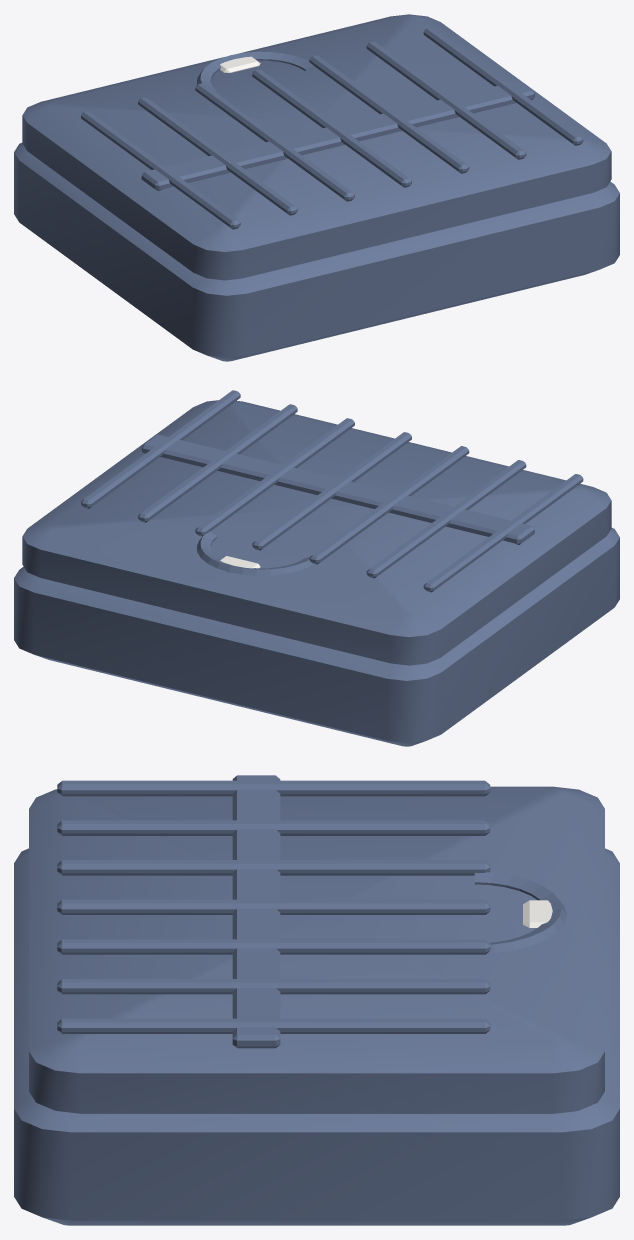
The model's file is folded-jumper.glb.
The picture shows the model from 3 angles, top to bottom: view 1: azimuth 30°, elevation 25°; view 2: azimuth 150°, elevation 25°; view 3: azimuth 270°, elevation 25°; orthographic projection. The views are drawn at different scales.
Parts seen in each view (by area): view 1: jumper-folded; view 2: jumper-folded; view 3: jumper-folded.
Boxes of the visible parts, <box> form: jumper-folded: <box>14,14,619,361</box>; jumper-folded: <box>14,390,619,746</box>; jumper-folded: <box>14,775,619,1225</box>.
Size of the model in its own units: 0.32 by 0.1 by 0.28.
